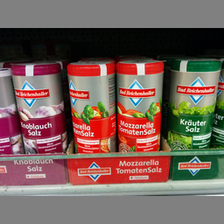spices: (12, 61, 68, 154), (168, 58, 222, 150), (67, 61, 116, 154), (116, 59, 164, 153)
